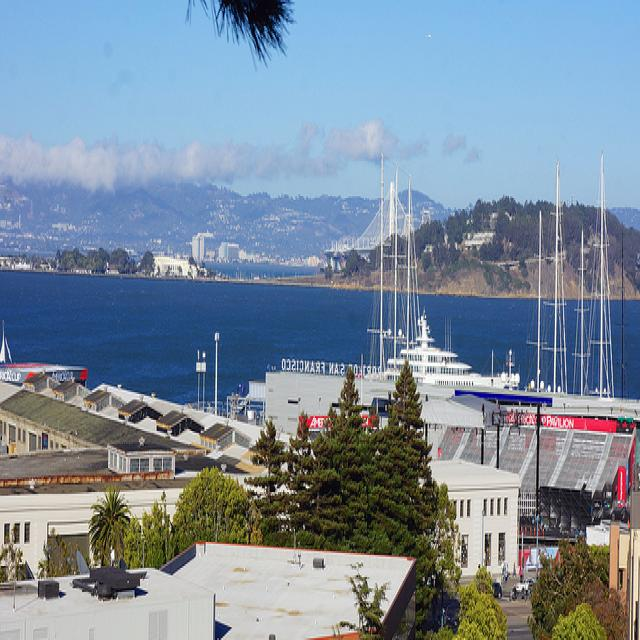Vehicle: (491, 582, 503, 598)
